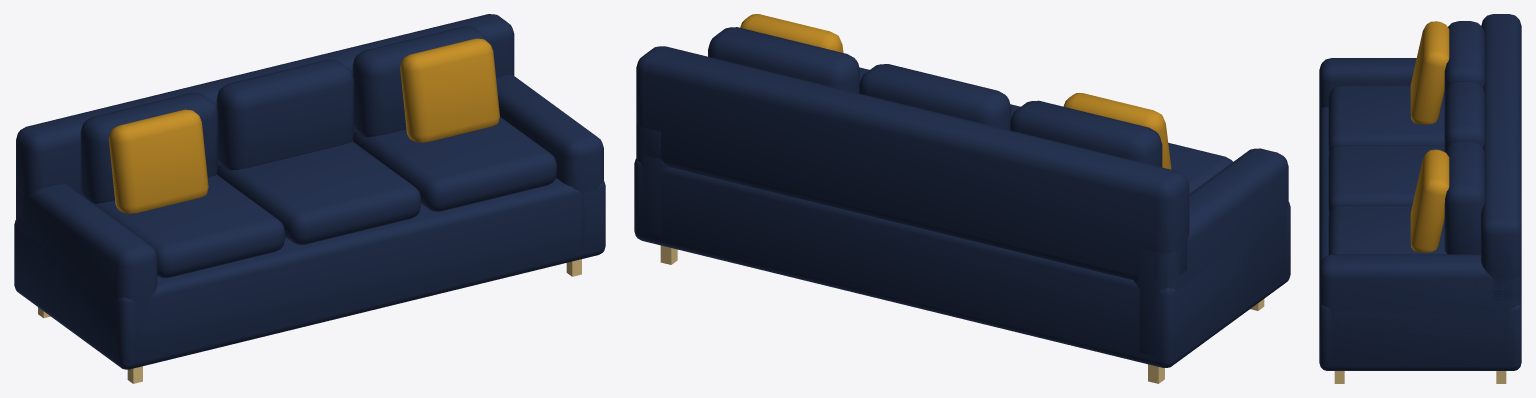
The model's file is fur_sofa_navy.glb.
3 views of the same model, side by side, from view 1: azimuth 30°, elevation 25°; view 2: azimuth 150°, elevation 25°; view 3: azimuth 270°, elevation 25° (orthographic). The views are drawn at different scales.
Parts seen in each view (by area): view 1: FUR_sofa_navy; view 2: FUR_sofa_navy; view 3: FUR_sofa_navy.
Boxes of the visible parts, x1,y1,x2,y2 form: FUR_sofa_navy: [14, 14, 605, 383]; FUR_sofa_navy: [634, 14, 1290, 383]; FUR_sofa_navy: [1319, 14, 1521, 383].
Size of the model in its own units: 2.5 by 1.01 by 1.
2 materials, 1 textured.
